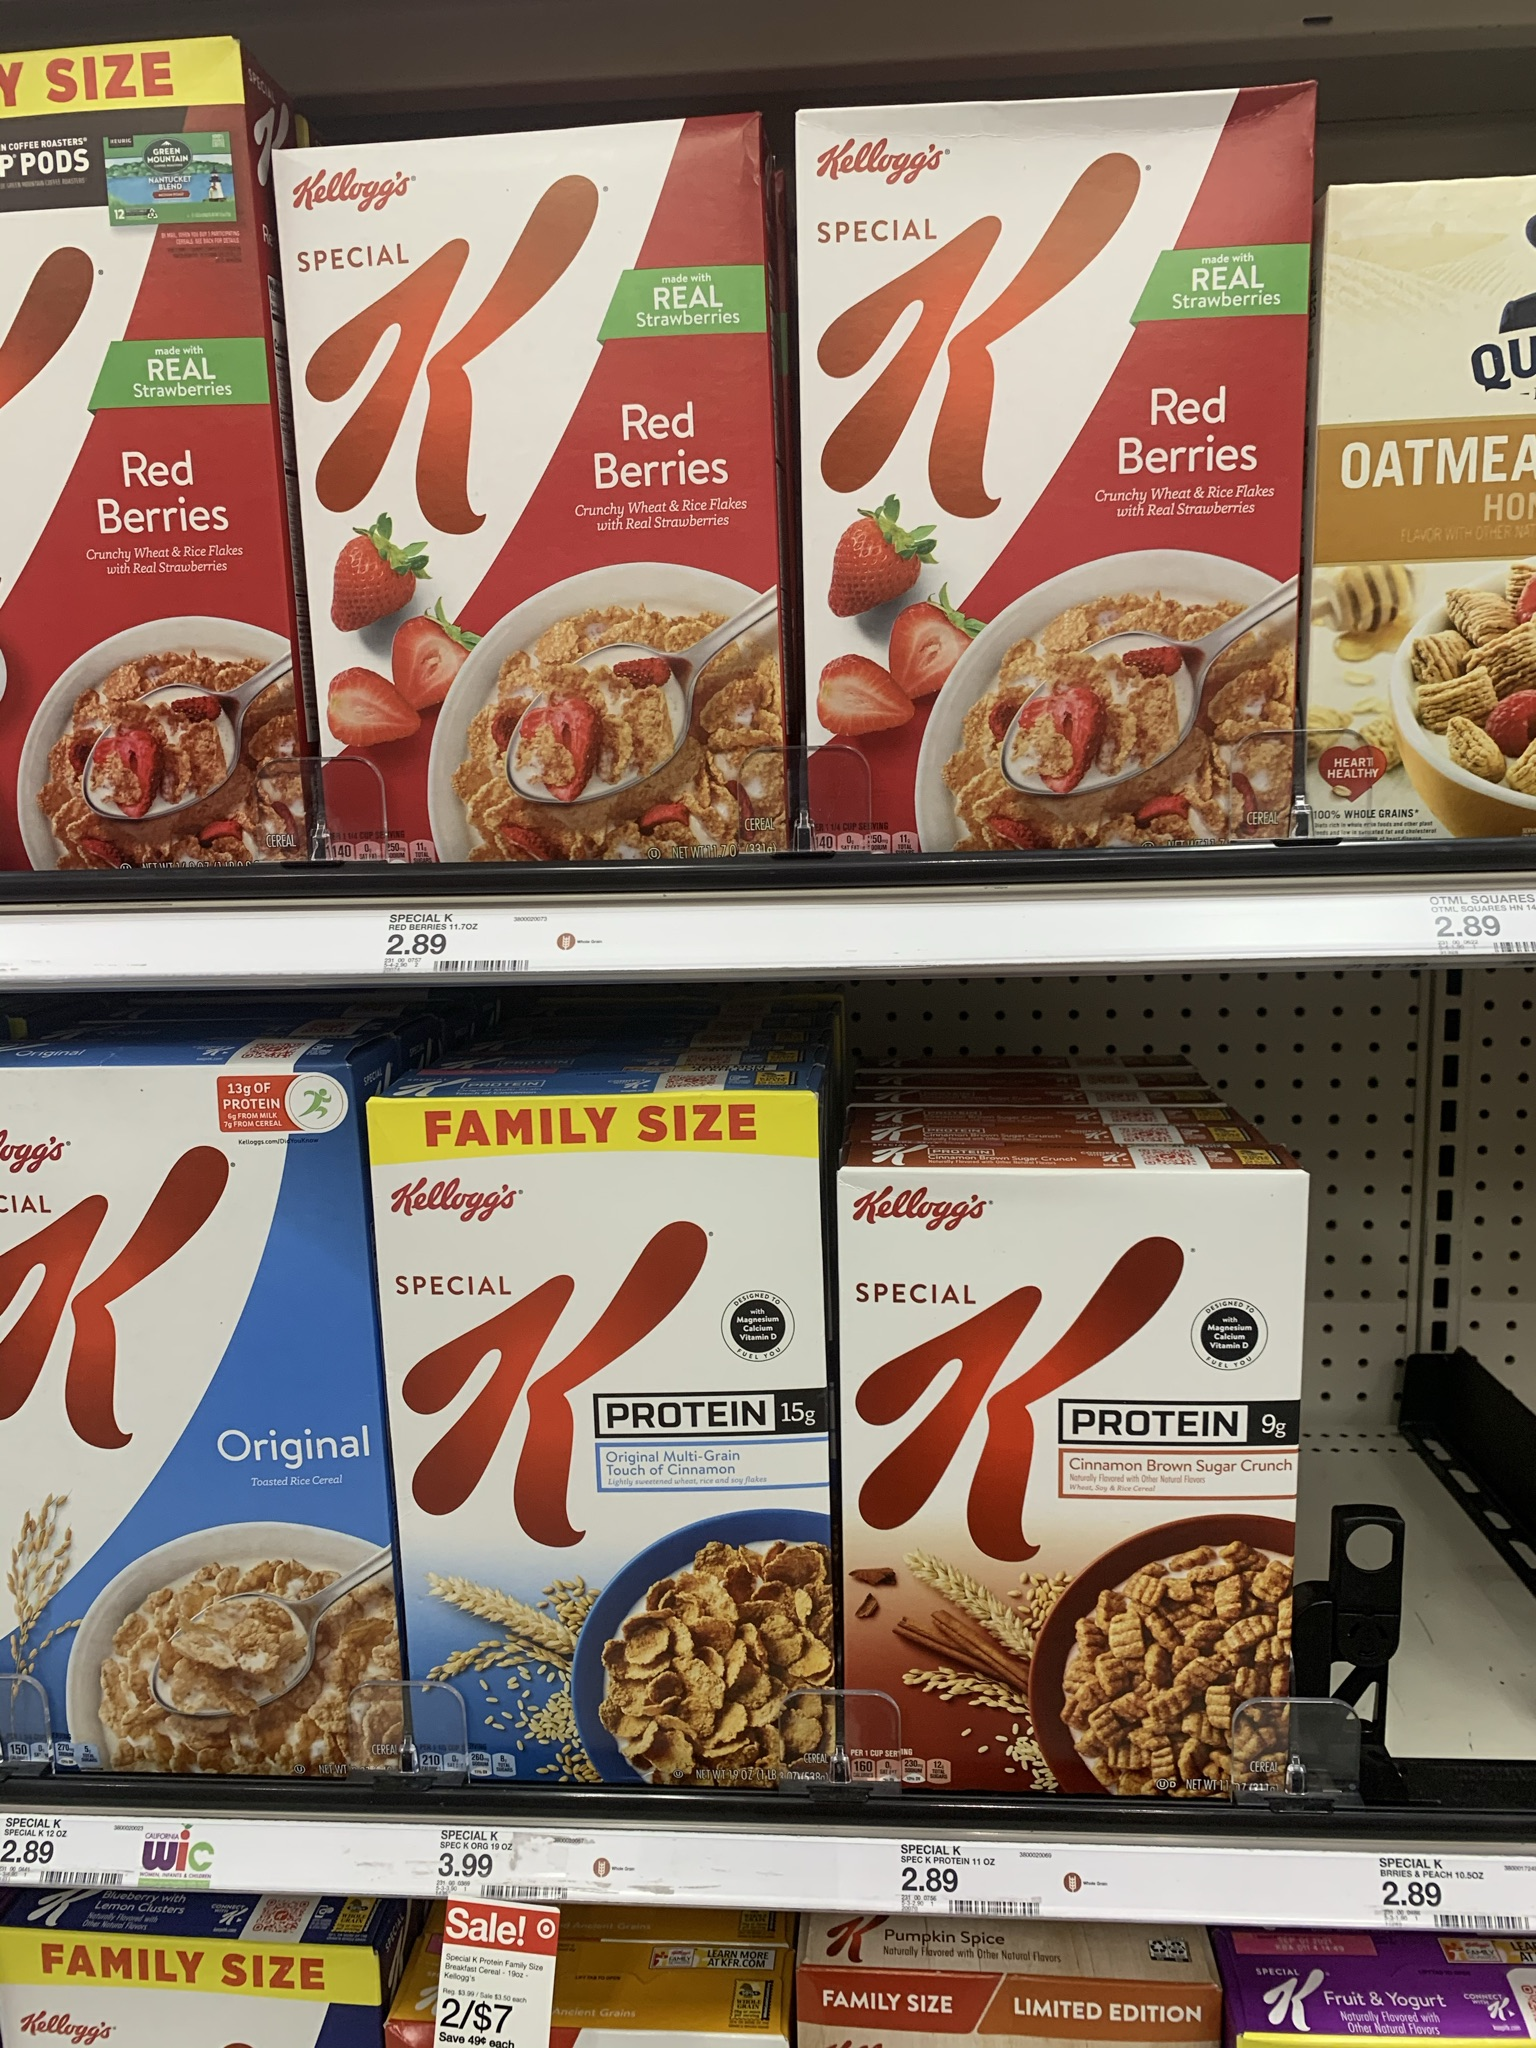Cereal: (786, 94, 1305, 848), (374, 1097, 829, 1784), (833, 1155, 1317, 1780)
